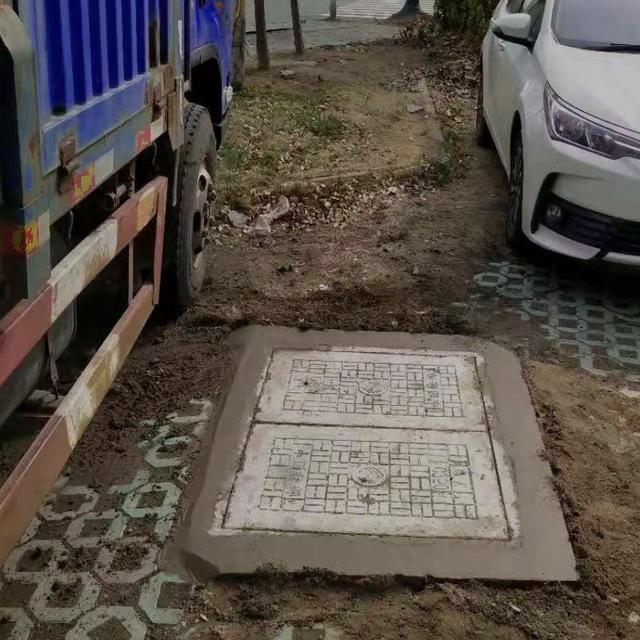good: (208, 342, 519, 542)
